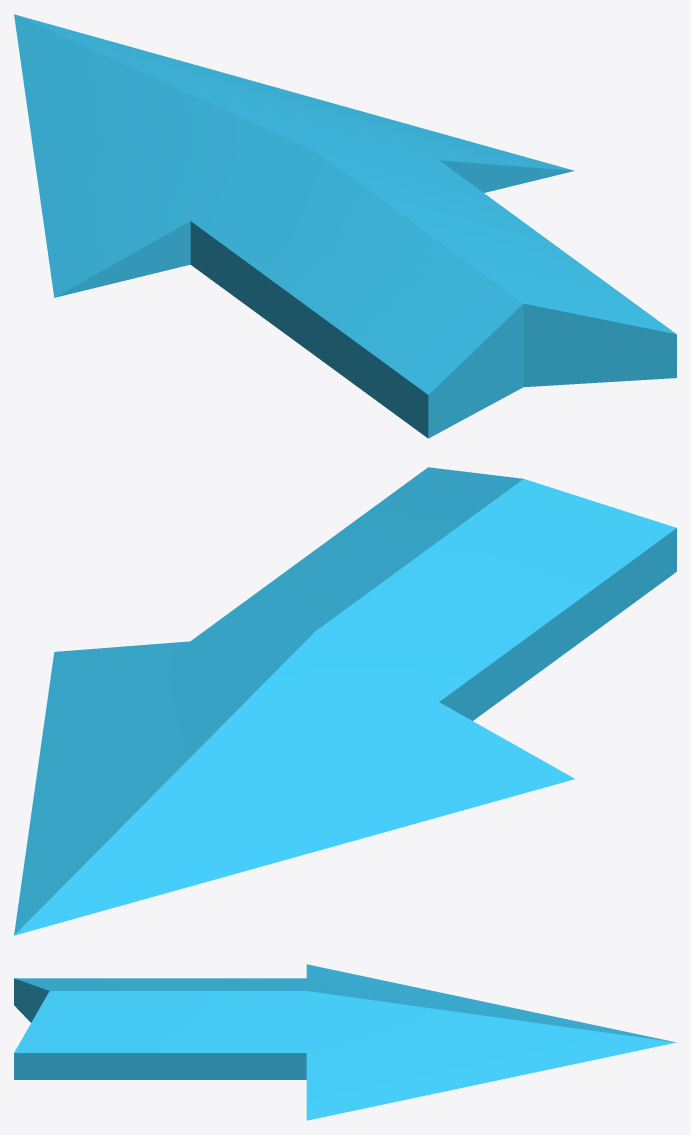
File: Forward.glb
3 views of the same model, one above another, from view 1: azimuth 30°, elevation 25°; view 2: azimuth 150°, elevation 25°; view 3: azimuth 270°, elevation 25° (orthographic). The views are drawn at different scales.
Parts seen in each view (by area): view 1: Forward; view 2: Forward; view 3: Forward.
Part boxes in pixels (x1=…): Forward: x1=14, y1=14, x2=676, y2=438; Forward: x1=14, y1=467, x2=676, y2=935; Forward: x1=14, y1=964, x2=676, y2=1120.
Bounding box in the file's own units: 2 × 0.307 × 3.58.
